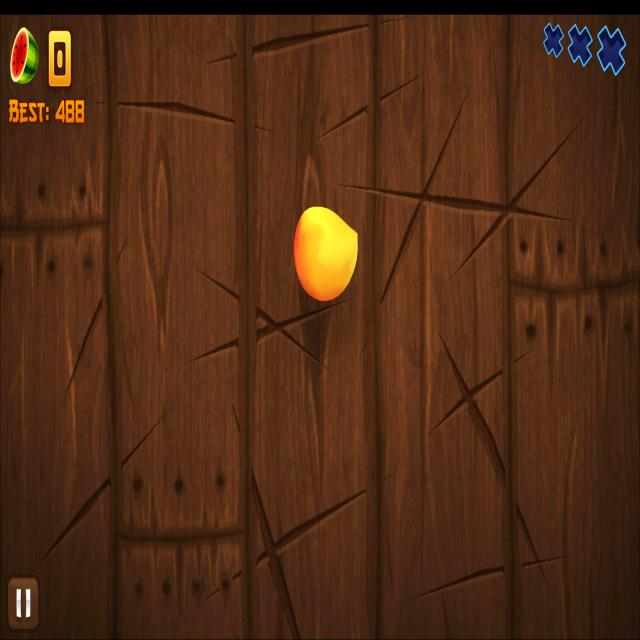fruit: (294, 208, 358, 302)
